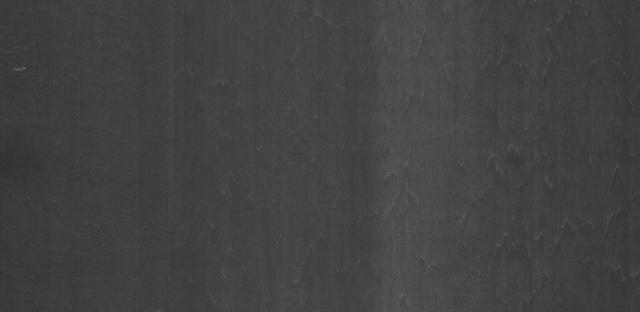silk_spot: (488, 112, 609, 196), (469, 207, 622, 272), (488, 10, 580, 87), (369, 22, 447, 93), (379, 159, 432, 211)
